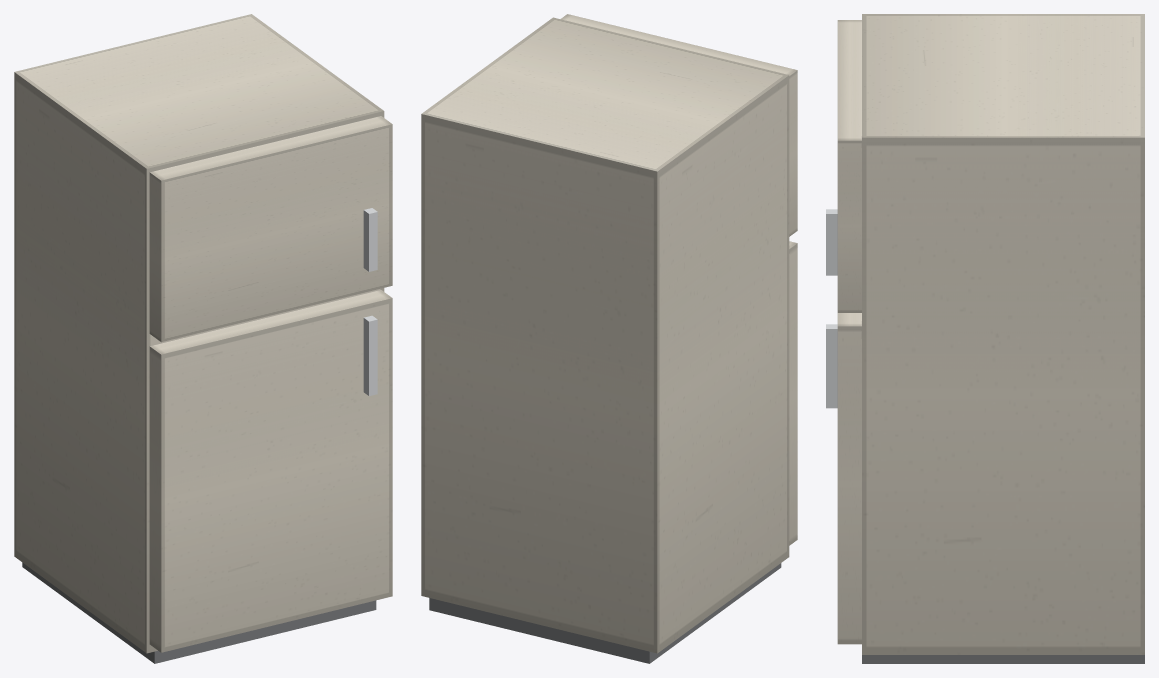
File: fridge_retro.glb
3 views of the same model, side by side, from view 1: azimuth 30°, elevation 25°; view 2: azimuth 150°, elevation 25°; view 3: azimuth 270°, elevation 25° (orthographic). The views are drawn at different scales.
Visible parts, largest first — view 1: fridge_retro; view 2: fridge_retro; view 3: fridge_retro.
Part boxes in pixels (x1,y1,x2,y2): fridge_retro: (14, 14, 392, 663); fridge_retro: (421, 14, 797, 663); fridge_retro: (826, 14, 1144, 663).
Size of the model in its own units: 0.6 by 1.2 by 0.654.
3 materials, 1 textured.
